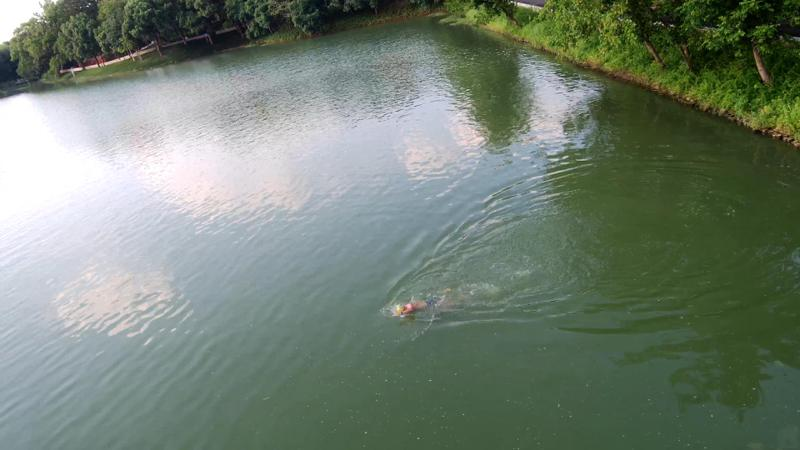swimmers: (395, 288, 451, 318)
